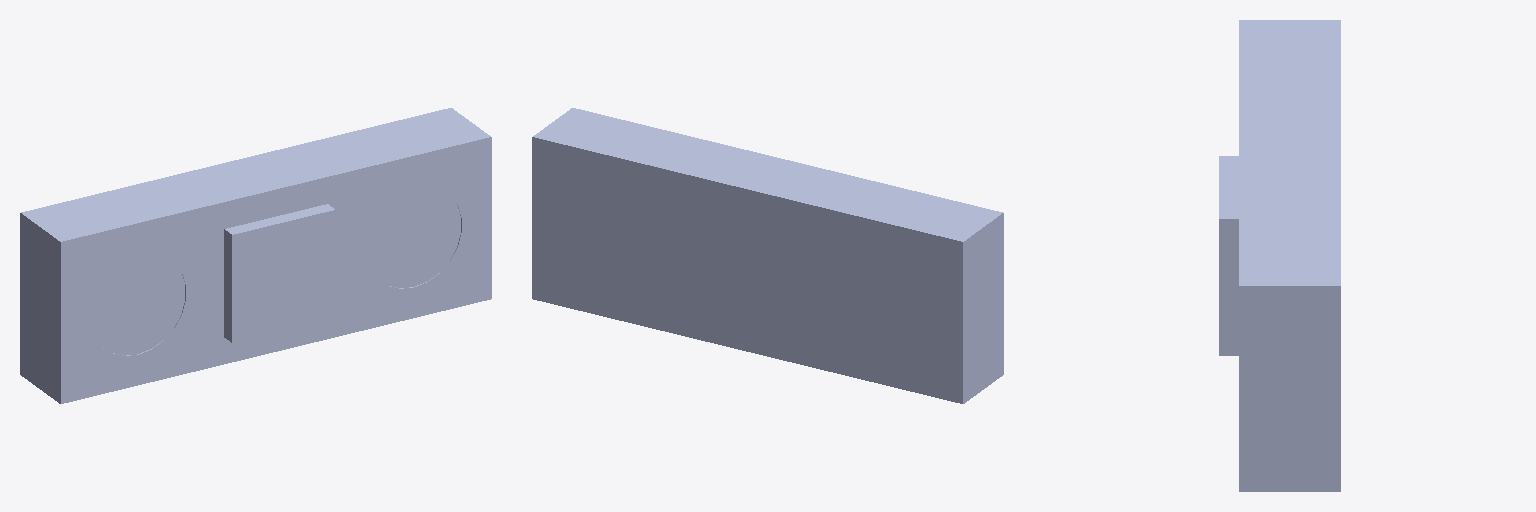
robot.urdf — AssemBase.SLDASM:
<?xml version="1.0" encoding="utf-8"?>
<!-- This URDF was automatically created by SolidWorks to URDF Exporter! Originally created by Stephen Brawner (brawner@gmail.com) 
     Commit Version: 1.6.0-4-g7f85cfe  Build Version: 1.6.7995.38578
     For more information, please see http://wiki.ros.org/sw_urdf_exporter -->
<robot
  name="AssemBase.SLDASM">
  <link
    name="controle_box">
    <inertial>
      <origin
        xyz="0.522123332705935 0.689524212328646 0.990233752649911"
        rpy="0 0 0" />
      <mass
        value="26.273731400266" />
      <inertia
        ixx="0.764535135387368"
        ixy="1.01403686964294E-16"
        ixz="6.67482126236123E-16"
        iyy="3.88605370026795"
        iyz="-1.68397519968334E-16"
        izz="4.47424050484692" />
    </inertial>
    <visual>
      <origin
        xyz="0 0 0"
        rpy="0 0 0" />
      <geometry>
        <mesh
          filename="package://AssemBase.SLDASM/meshes/controle_box.STL" />
      </geometry>
      <material
        name="">
        <color
          rgba="0.792156862745098 0.819607843137255 0.933333333333333 1" />
      </material>
    </visual>
    <collision>
      <origin
        xyz="0 0 0"
        rpy="0 0 0" />
      <geometry>
        <mesh
          filename="package://AssemBase.SLDASM/meshes/controle_box.STL" />
      </geometry>
    </collision>
  </link>
  <link
    name="chess_board">
    <inertial>
      <origin
        xyz="0 -0.00499999999999989 1.11022302462516E-16"
        rpy="0 0 0" />
      <mass
        value="0.784000000000001" />
      <inertia
        ixx="0.00512866666666667"
        ixy="0"
        ixz="0"
        iyy="0.0102442666666667"
        iyz="-6.50388673372835E-34"
        izz="0.00512866666666667" />
    </inertial>
    <visual>
      <origin
        xyz="0 0 0"
        rpy="0 0 0" />
      <geometry>
        <mesh
          filename="package://AssemBase.SLDASM/meshes/chess_board.STL" />
      </geometry>
      <material
        name="">
        <color
          rgba="0.792156862745098 0.819607843137255 0.933333333333333 1" />
      </material>
    </visual>
    <collision>
      <origin
        xyz="0 0 0"
        rpy="0 0 0" />
      <geometry>
        <mesh
          filename="package://AssemBase.SLDASM/meshes/chess_board.STL" />
      </geometry>
    </collision>
  </link>
  <joint
    name="chess_board_joint"
    type="fixed">
    <origin
      xyz="0.522123332705935 -1.12365698223419 0.689524212328646"
      rpy="3.14159265358979 0 0" />
    <parent
      link="controle_box" />
    <child
      link="chess_board" />
    <axis
      xyz="0 0 0" />
  </joint>
</robot>

--- Render facts (derived) ---
The picture shows the robot from 3 angles, left to right: view 1: azimuth 30°, elevation 25°; view 2: azimuth 150°, elevation 25°; view 3: azimuth 270°, elevation 25°; orthographic projection.
Robot: AssemBase.SLDASM — 2 links, 1 joints (1 fixed); root link controle_box; default pose: all joints at 0.
Visible links, largest first — view 1: controle_box, chess_board; view 2: controle_box; view 3: controle_box.
Boxes of the visible links, bbox=[...] form: controle_box: bbox=[20, 108, 491, 403]; chess_board: bbox=[236, 214, 331, 338]; controle_box: bbox=[532, 108, 1003, 403]; controle_box: bbox=[1219, 20, 1340, 491].
Size in the robot's own frame: 1.25 by 0.2416 by 0.45 metres.
Meshes: 2 distinct files referenced, 2 mesh visuals loaded (2 binary STL).
